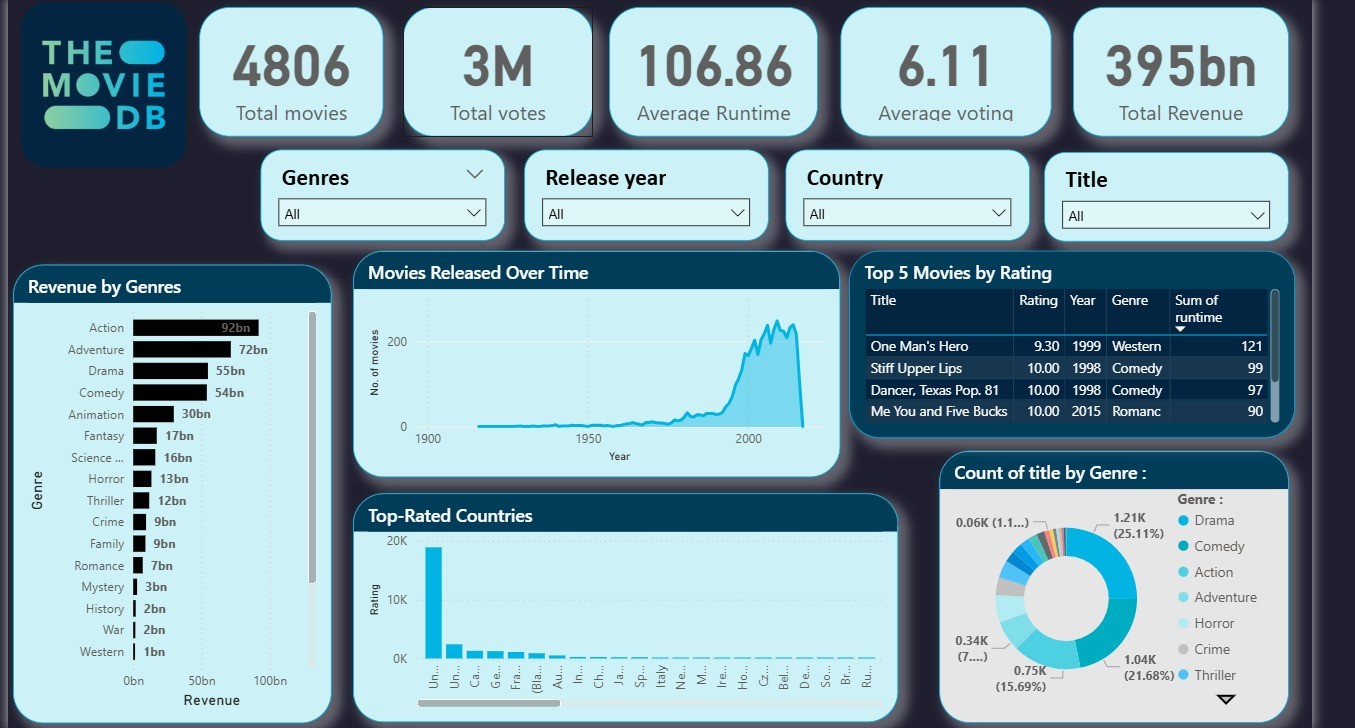

Layout of this report page (visuals, bound fields, positions):
{"tool":"powerbi","page":{"name":"Page 1","canvas":[1280,720],"ordinal":0},"visuals":[{"type":"card","fields":{"Values":["CountNonNull(tmdb_5000_movies.title)"]},"box":[187.9,10.3,181,127.6],"z":0},{"type":"card","fields":{"Values":["Avg(tmdb_5000_movies.vote_average)"]},"box":[817.2,10.3,206.9,127.6],"z":1000},{"type":"card","fields":{"Values":["Avg(tmdb_5000_movies.runtime)"]},"box":[589.7,10.3,205.2,127.6],"z":2000},{"type":"card","fields":{"Values":["Sum(tmdb_5000_movies.revenue)"]},"box":[1044.8,10.3,212.1,127.6],"z":3000},{"type":"card","fields":{"Values":["Sum(tmdb_5000_movies.vote_count)"]},"box":[387.9,10.3,186.2,127.6],"z":4000},{"type":"slicer","fields":{"Values":["tmdb_5000_movies.genres"]},"box":[248.3,150,239.7,89.7],"z":5000},{"type":"slicer","fields":{"Values":["tmdb_5000_movies.production_countries"]},"box":[763.8,150,239.7,89.7],"z":6000},{"type":"slicer","fields":{"Values":["tmdb_5000_movies.Year"]},"box":[506.9,150,239.7,89.7],"z":7000},{"type":"slicer","fields":{"Values":["tmdb_5000_movies.title"]},"box":[1017.2,151.7,239.7,87.9],"z":8000},{"type":"areaChart","title":"Movies Released Over Time","fields":{"Category":["tmdb_5000_movies.Year"],"Y":["CountNonNull(tmdb_5000_movies.title)"]},"box":[338.8,248.8,478.8,222.5],"z":9000},{"type":"barChart","title":"Revenue by Genres","fields":{"Category":["tmdb_5000_movies.genres"],"Y":["Sum(tmdb_5000_movies.revenue)"]},"box":[5,262.5,312.5,450],"z":10000},{"type":"columnChart","title":"Top-Rated Countries","fields":{"Category":["tmdb_5000_movies.production_countries"],"Y":["Sum(tmdb_5000_movies.vote_average)"]},"box":[338.8,487.5,535,225],"z":11000},{"type":"donutChart","fields":{"Category":["tmdb_5000_movies.genres"],"Y":["CountNonNull(tmdb_5000_movies.title)"]},"box":[913.8,444.8,343.1,267.2],"z":12000},{"type":"tableEx","title":"Top 5 Movies by Rating","fields":{"Values":["tmdb_5000_movies.title","Sum(tmdb_5000_movies.vote_average)","tmdb_5000_movies.Year","tmdb_5000_movies.genres","Sum(tmdb_5000_movies.runtime)"]},"box":[826.2,248.8,437.5,183.8],"z":13000},{"type":"image","box":[0,0,187.9,172.4],"z":14000}]}

Visuals, with their boxes in screenshot pixels (x1, y1, x2, y2):
card - CountNonNull(tmdb_5000_movies.title): select_region(194, 0, 381, 132)
card - Avg(tmdb_5000_movies.vote_average): select_region(844, 0, 1057, 132)
card - Avg(tmdb_5000_movies.runtime): select_region(609, 0, 821, 132)
card - Sum(tmdb_5000_movies.revenue): select_region(1078, 0, 1297, 132)
card - Sum(tmdb_5000_movies.vote_count): select_region(400, 0, 593, 132)
slicer - tmdb_5000_movies.genres: select_region(256, 144, 504, 237)
slicer - tmdb_5000_movies.production_countries: select_region(788, 144, 1036, 237)
slicer - tmdb_5000_movies.Year: select_region(523, 144, 771, 237)
slicer - tmdb_5000_movies.title: select_region(1050, 146, 1297, 237)
"Movies Released Over Time" areaChart: select_region(350, 246, 844, 476)
"Revenue by Genres" barChart: select_region(5, 260, 328, 725)
"Top-Rated Countries" columnChart: select_region(350, 493, 902, 725)
donutChart - tmdb_5000_movies.genres x CountNonNull(tmdb_5000_movies.title): select_region(943, 449, 1297, 724)
"Top 5 Movies by Rating" tableEx: select_region(853, 246, 1304, 436)
image: select_region(0, 0, 194, 167)
